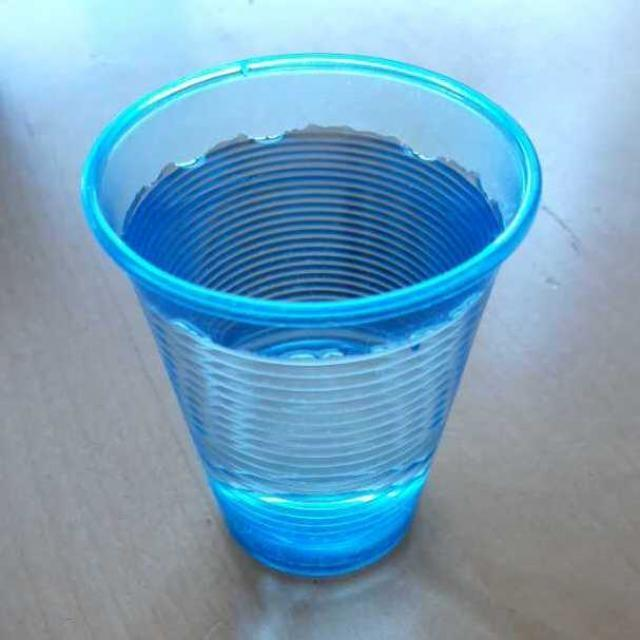water: (110, 132, 492, 564)
